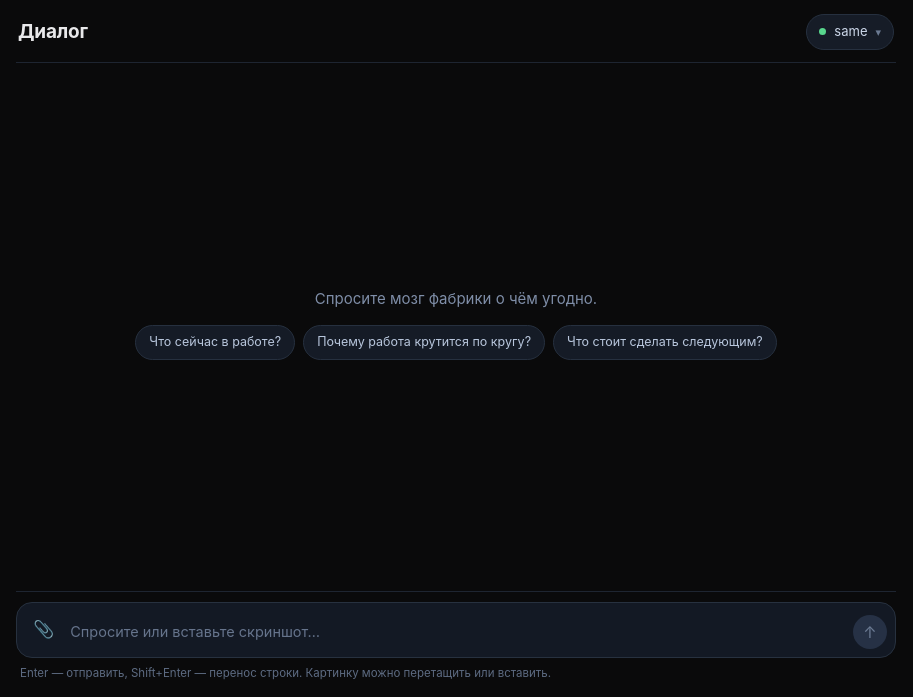
Test: shows a useful message when the selected model is rate limited
Type "Ответь" into the text box named "Ваш вопрос" at [457, 632], box [68,615,845,649]
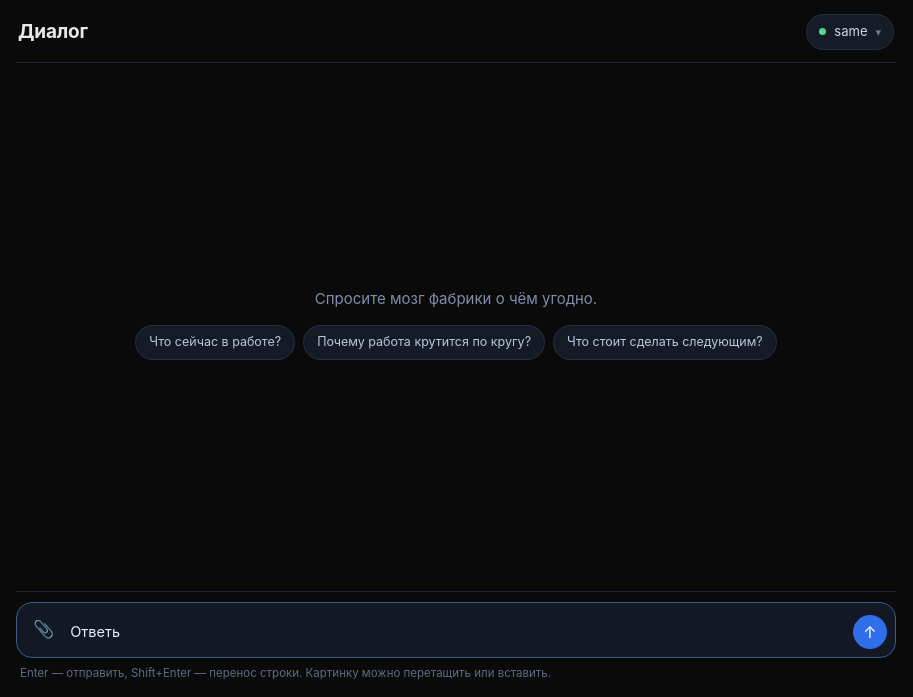
Click the button named "Отправить" at [870, 632], box [853,615,887,649]
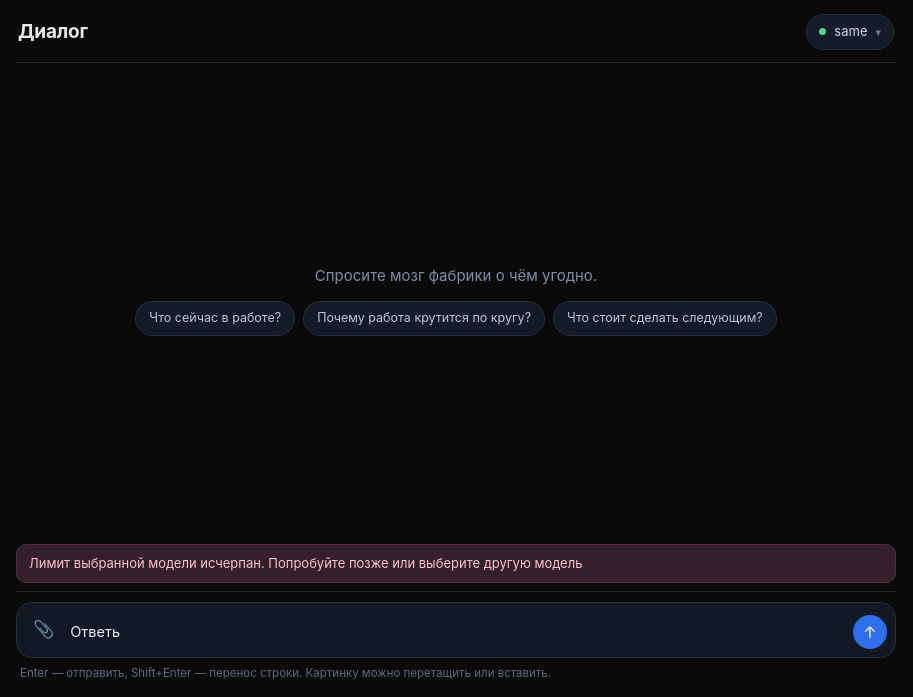
Expected: the message shows "Лимит выбранной модели исчерпан", [29,555,582,571]
